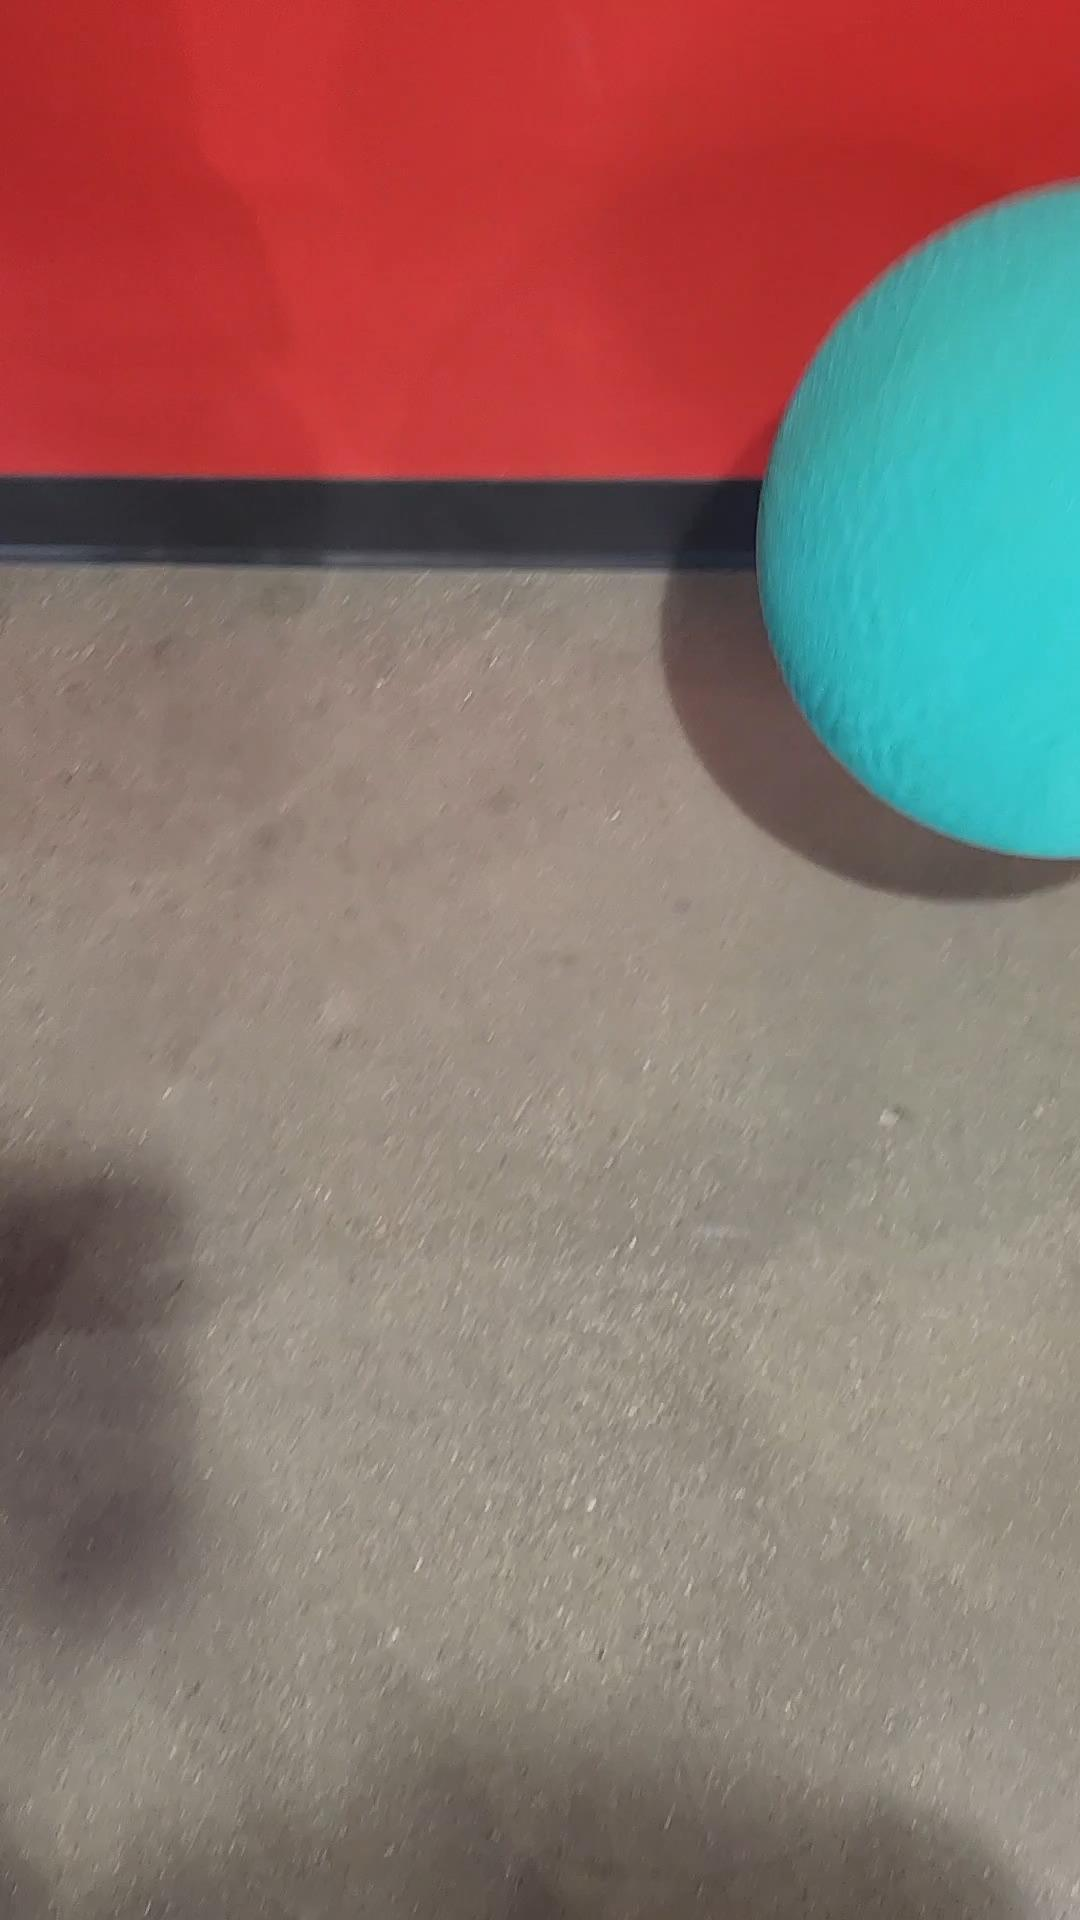algae: (766, 193, 1080, 873)
